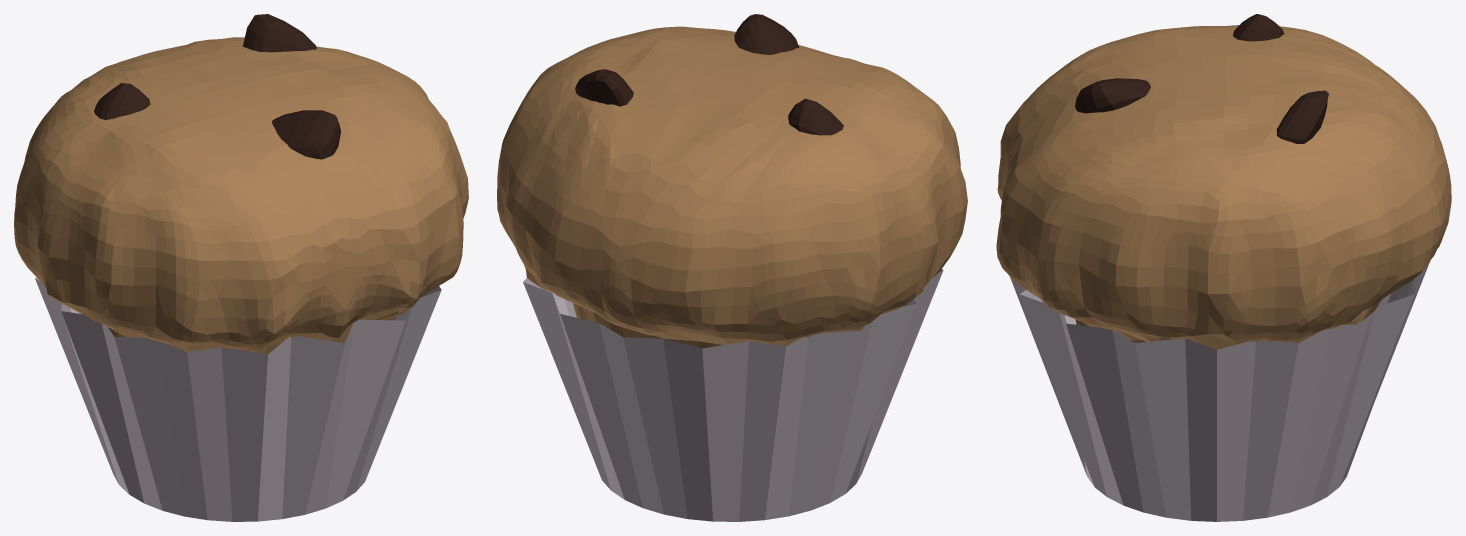
3 renders of one model, left to right at view 1: azimuth 30°, elevation 25°; view 2: azimuth 150°, elevation 25°; view 3: azimuth 270°, elevation 25°, orthographic. The views are drawn at different scales.
Visible parts, largest first — view 1: cake_main_3, paper_2, schoki_4; view 2: cake_main_3, paper_2, schoki_4; view 3: cake_main_3, paper_2, schoki_4.
Boxes of the visible parts, <box> form: cake_main_3: <box>14,37,468,353</box>; paper_2: <box>35,277,441,521</box>; schoki_4: <box>94,14,340,159</box>; cake_main_3: <box>497,26,967,348</box>; paper_2: <box>523,265,943,521</box>; schoki_4: <box>575,14,843,135</box>; cake_main_3: <box>996,25,1451,349</box>; paper_2: <box>1010,260,1430,521</box>; schoki_4: <box>1075,14,1328,143</box>.
Bounding box in the file's own units: 1.49 × 1.43 × 1.44.
